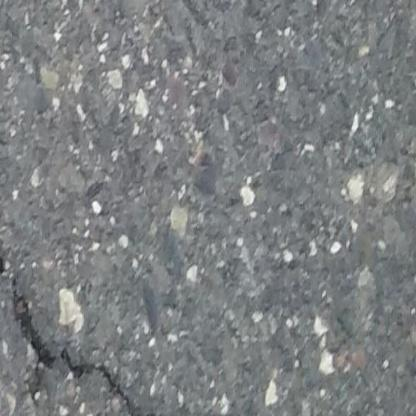Cracks: (0, 201, 185, 416)
